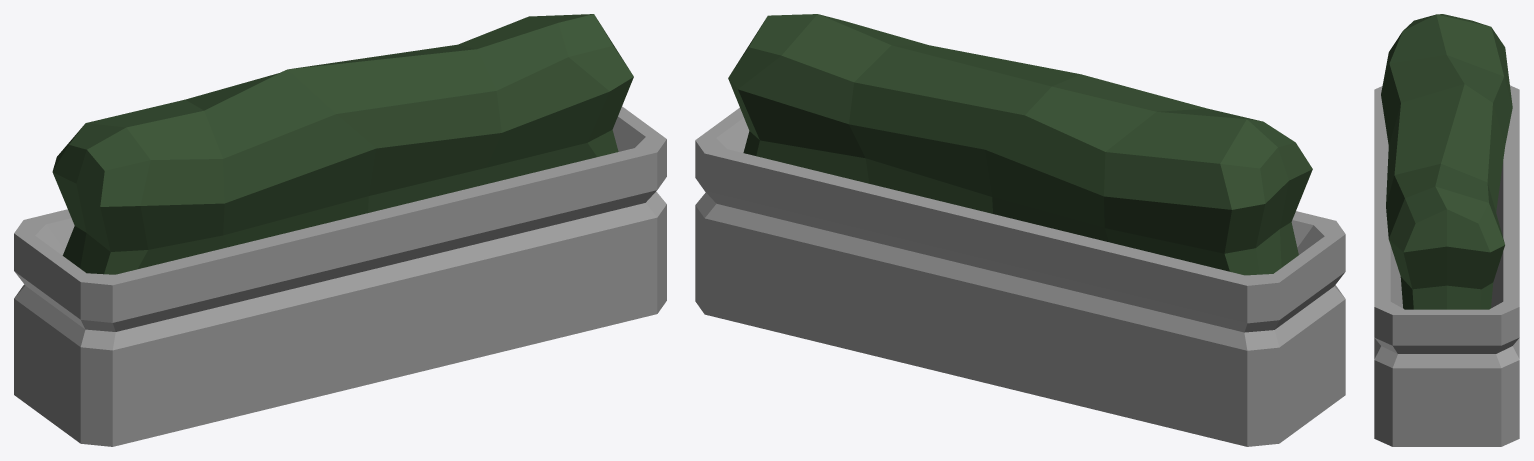
File: city_SM_Env_Hedge_01.gltf
3 renders of one model, left to right at view 1: azimuth 30°, elevation 25°; view 2: azimuth 150°, elevation 25°; view 3: azimuth 270°, elevation 25°, orthographic. The views are drawn at different scales.
Parts seen in each view (by area): view 1: SM_Env_Hedge_01; view 2: SM_Env_Hedge_01; view 3: SM_Env_Hedge_01.
Boxes of the visible parts, x1,y1,x2,y2 form: SM_Env_Hedge_01: (14,14,666,446); SM_Env_Hedge_01: (695,14,1345,446); SM_Env_Hedge_01: (1374,14,1519,446).
Size of the model in its own units: 3.83 by 1.75 by 1.01.
Materials: 1 (1 with a texture image).
